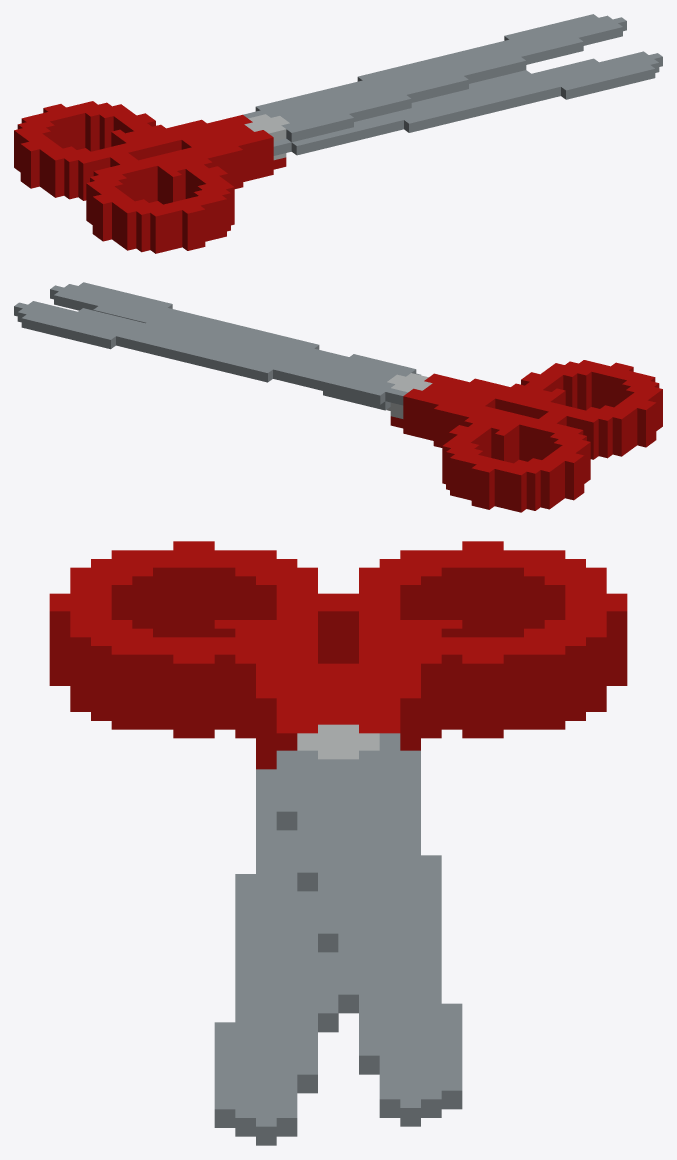
The model's file is scissors_child.glb.
3 views of the same model, one above another, from view 1: azimuth 30°, elevation 25°; view 2: azimuth 150°, elevation 25°; view 3: azimuth 270°, elevation 25° (orthographic). The views are drawn at different scales.
Visible parts, largest first — view 1: scissors_child:compound; view 2: scissors_child:compound; view 3: scissors_child:compound.
Boxes of the visible parts, <box> form: scissors_child:compound: <box>14,14,662,253</box>; scissors_child:compound: <box>14,282,662,512</box>; scissors_child:compound: <box>49,541,627,1145</box>.
Bounding box in the file's own units: 0.13 × 0.008 × 0.056.
